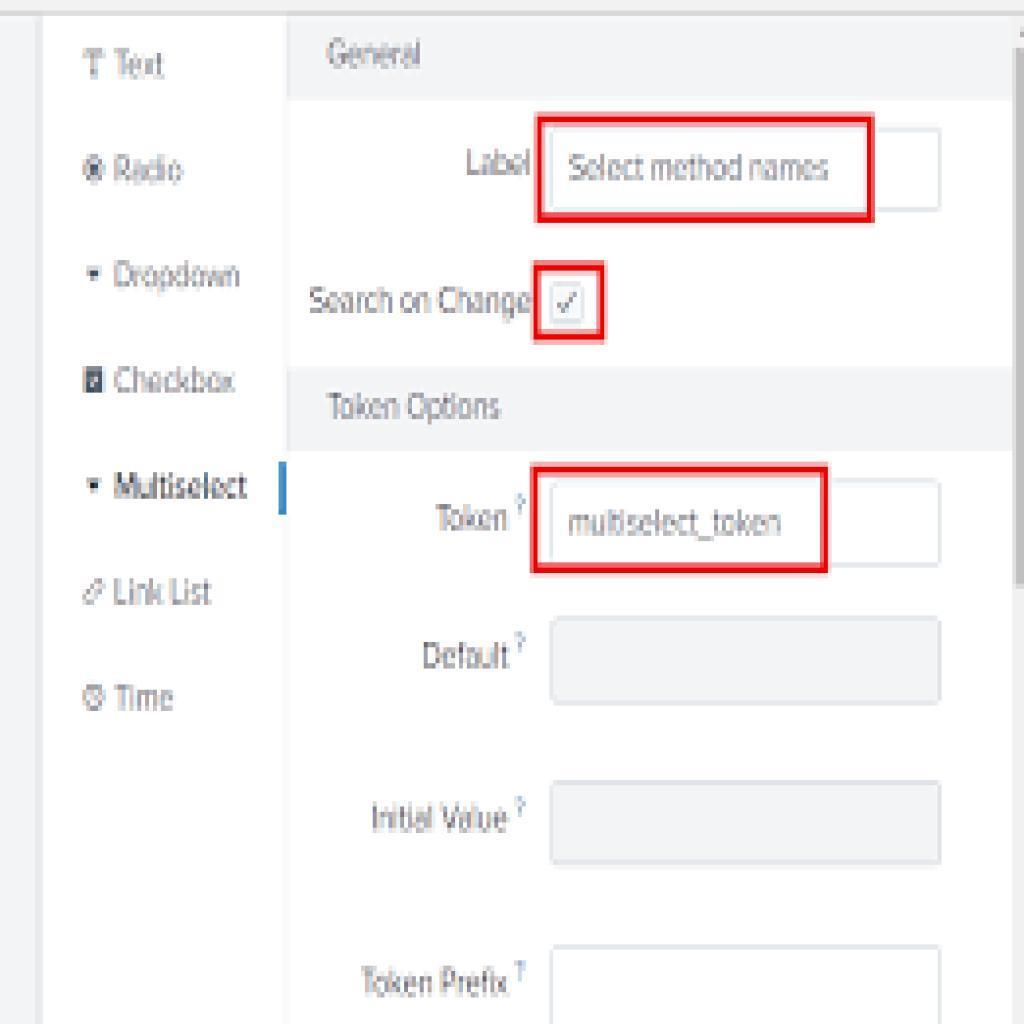checkbox: (549, 285, 587, 322), (84, 366, 105, 396)
icon: (82, 575, 110, 608), (81, 47, 108, 81), (83, 680, 107, 713)
input: (549, 618, 939, 703), (539, 118, 873, 217), (552, 781, 936, 865), (554, 947, 939, 1024), (534, 468, 827, 567)
radio: (84, 152, 105, 185)
